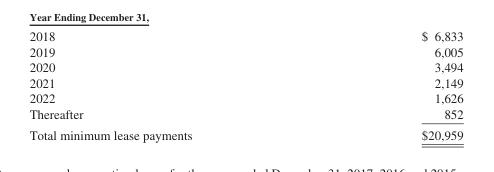table: (28, 28, 462, 141)
table column: (28, 28, 306, 141), (306, 28, 462, 141)
table row: (28, 105, 462, 123), (28, 123, 462, 141), (28, 43, 462, 59), (28, 74, 462, 90), (28, 28, 462, 43), (28, 59, 462, 74), (28, 90, 462, 105)
